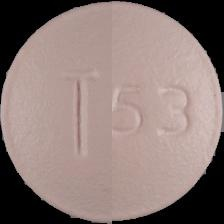54458-934: (0, 0, 224, 224)
